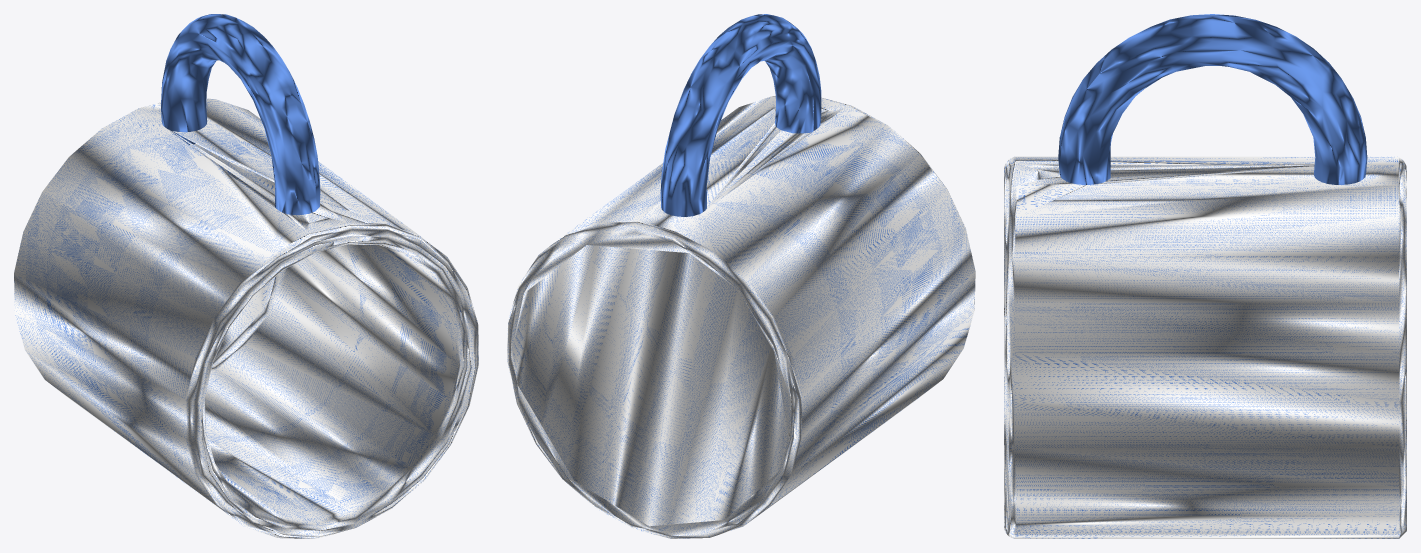
The model's file is model_align.obj.
3 renders of one model, left to right at view 1: azimuth 30°, elevation 25°; view 2: azimuth 150°, elevation 25°; view 3: azimuth 270°, elevation 25°, orthographic. The views are drawn at different scales.
Bounding box in the file's own units: 0.0755 × 0.11 × 0.0801.
